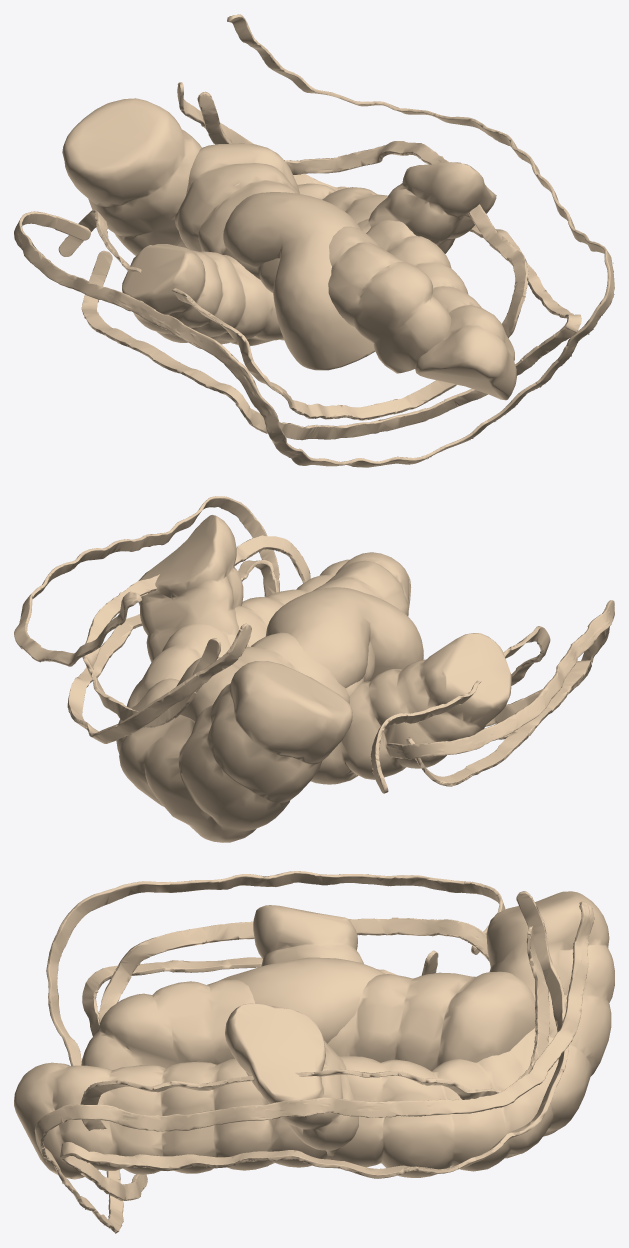
Rendered from atlas_large_intestine.glb.
3 views of the same model, one above another, from view 1: azimuth 30°, elevation 25°; view 2: azimuth 150°, elevation 25°; view 3: azimuth 270°, elevation 25° (orthographic). The views are drawn at different scales.
Visible parts, largest first — view 1: descending colon, ascending colon, transverse colon, rectum, taenia omentalis, taenia mesocolica, taenia libera; view 2: descending colon, transverse colon, taenia omentalis, rectum, taenia libera, ascending colon, taenia mesocolica; view 3: descending colon, ascending colon, taenia omentalis, transverse colon, taenia libera, taenia mesocolica, rectum.
Part boxes in pixels (x1,y1,x2,y2): descending colon: (62, 98, 516, 400); ascending colon: (174, 143, 451, 373); transverse colon: (122, 162, 496, 346); rectum: (223, 183, 375, 370); taenia omentalis: (14, 14, 614, 467); taenia mesocolica: (58, 91, 528, 420); taenia libera: (81, 82, 581, 440); descending colon: (116, 559, 410, 842); transverse colon: (138, 515, 511, 784); taenia omentalis: (14, 496, 614, 759); rectum: (265, 587, 423, 688); taenia libera: (67, 559, 591, 786); ascending colon: (176, 552, 409, 721); taenia mesocolica: (82, 535, 550, 793); descending colon: (14, 891, 614, 1179); ascending colon: (81, 971, 535, 1071); taenia omentalis: (34, 871, 594, 1233); transverse colon: (225, 905, 363, 1156); taenia libera: (60, 891, 568, 1200); taenia mesocolica: (80, 917, 549, 1130); rectum: (218, 957, 421, 1043).
Size of the model in its own units: 7908709 by 4736971 by 7830955.
